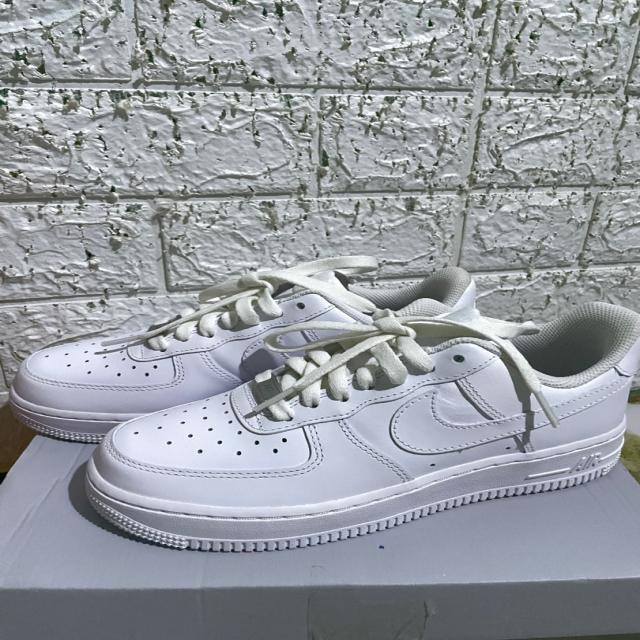nike original air force: (79, 299, 640, 553), (8, 264, 488, 448)
